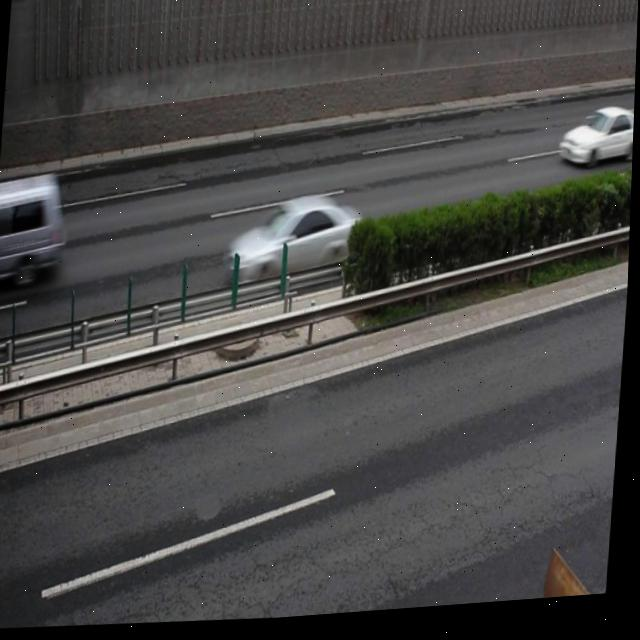car: (225, 191, 366, 292), (557, 110, 636, 177)
truck: (0, 170, 71, 291)
